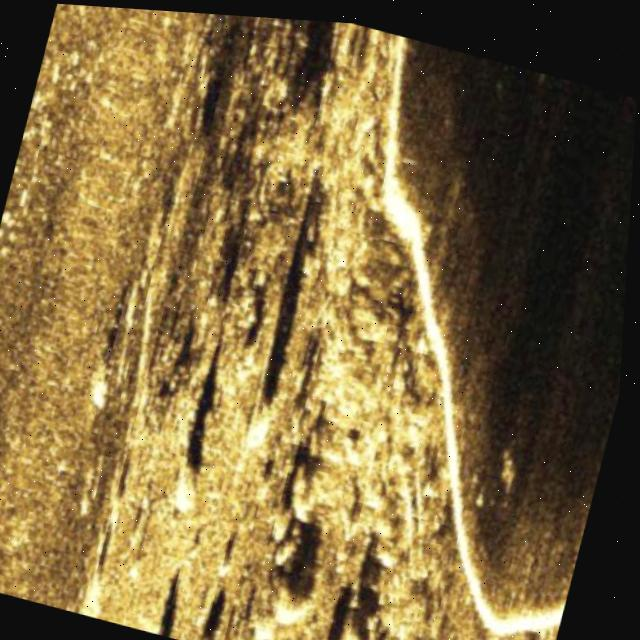bedrock group: (39, 4, 640, 640)
